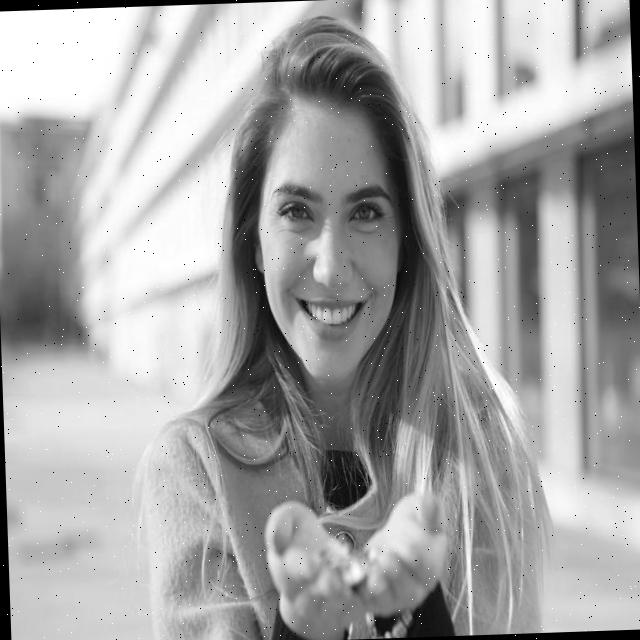Happiness: (251, 94, 411, 388)
